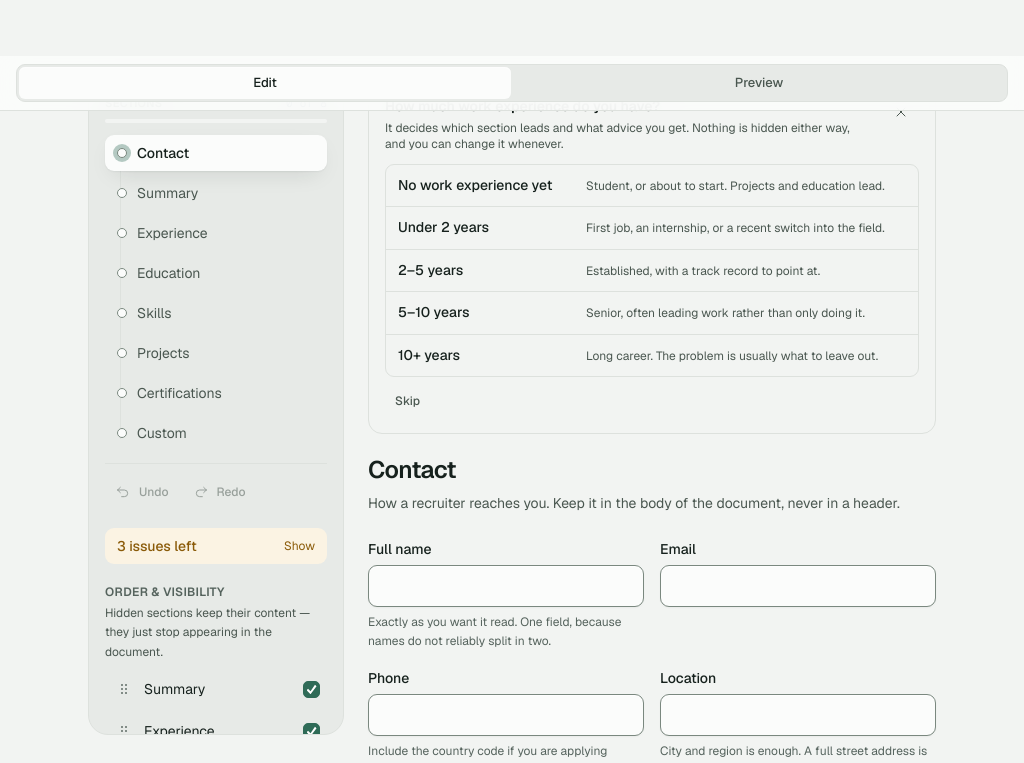
Test: navigation › opens the command palette with Ctrl+K and jumps to a section
This screenshot has width=1024, height=763.
expect the heading "Contact" is shown: met, box x1=368 y1=454 x2=456 y2=485
Type keys "{Control>}k{/Control}"
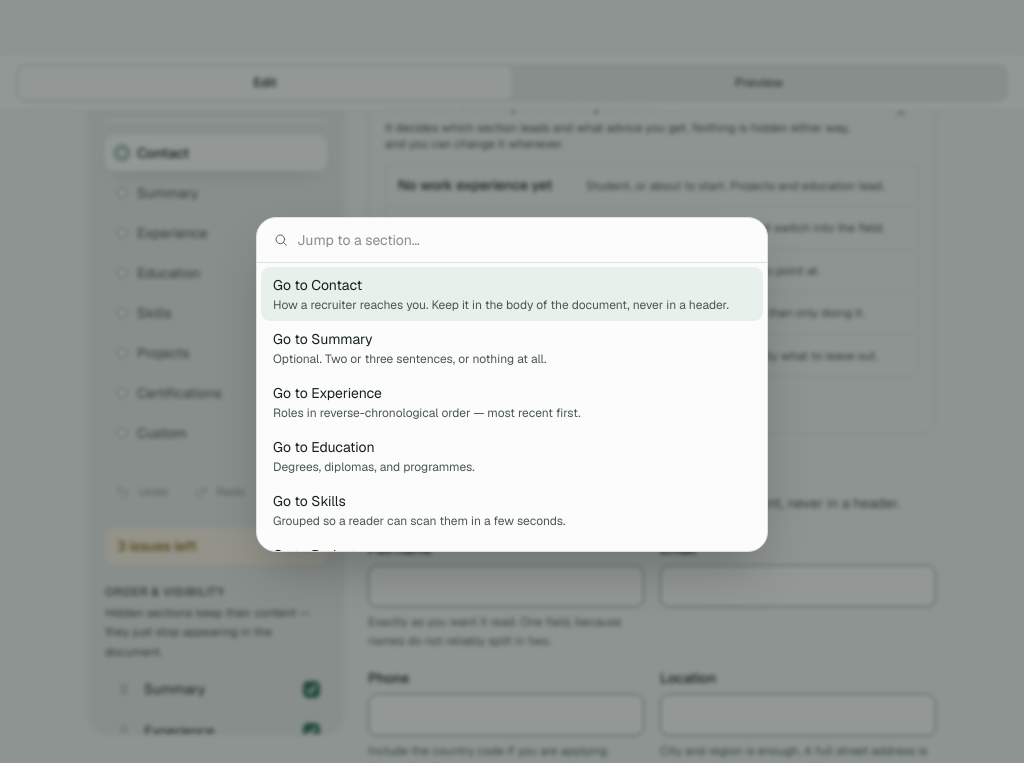
Type "projects" into the field named "search commands" at (524, 240), box x1=297 y1=218 x2=751 y2=262
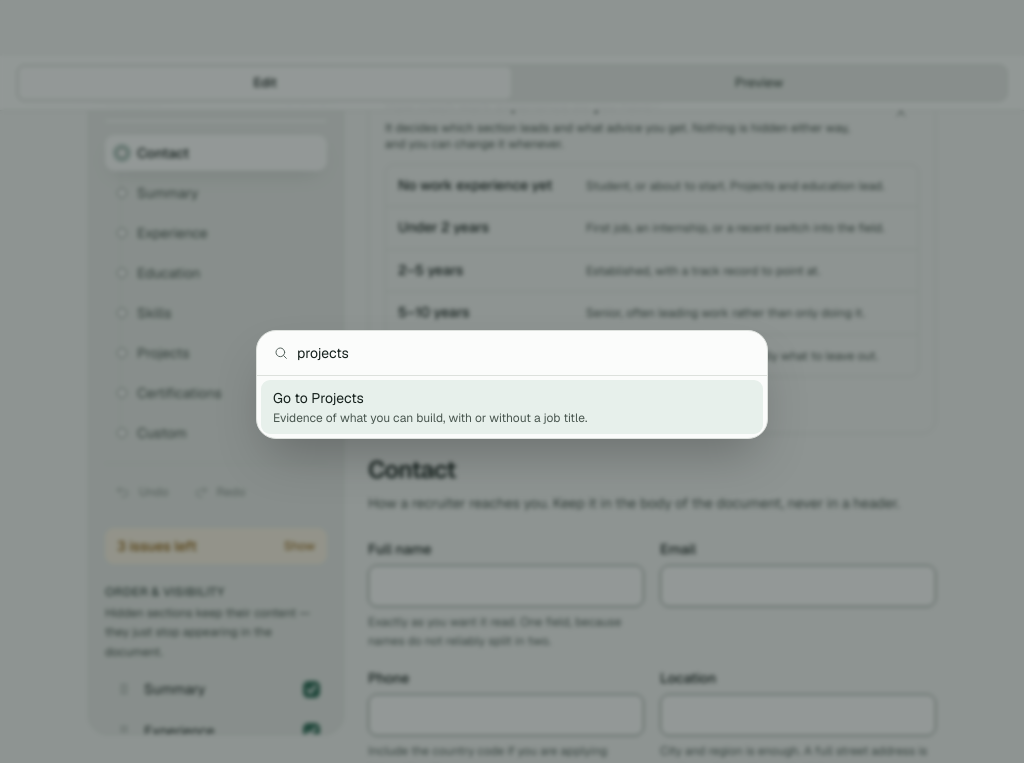
Press Enter
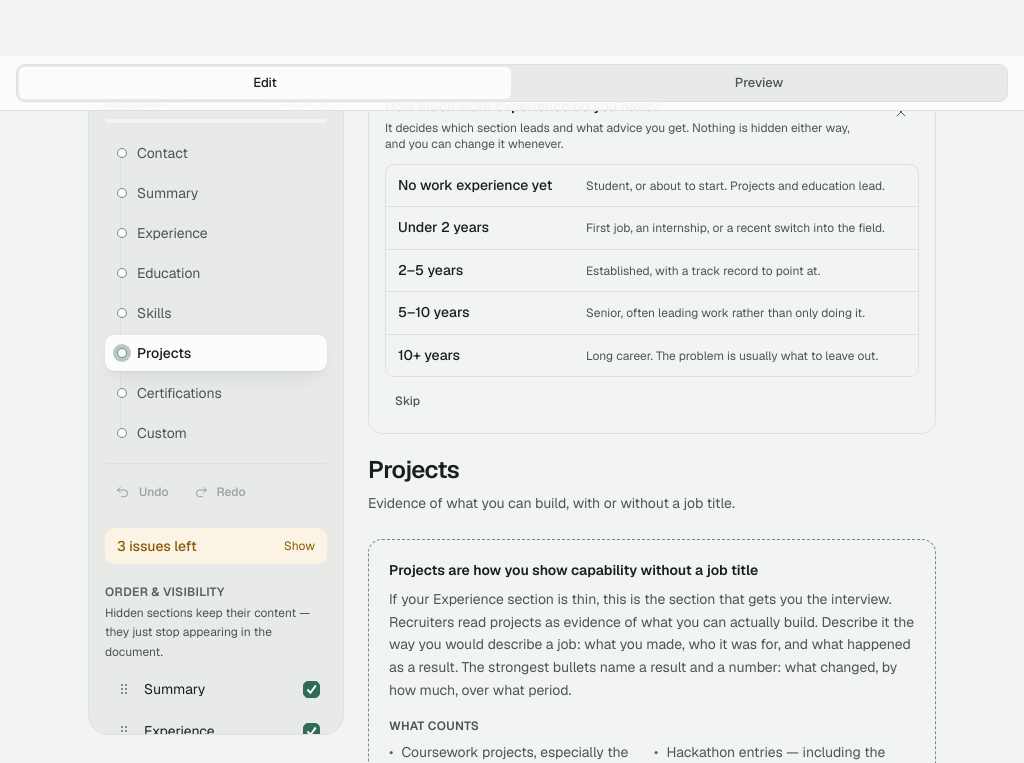
expect the heading "Projects" is shown: met, box x1=368 y1=454 x2=459 y2=485
